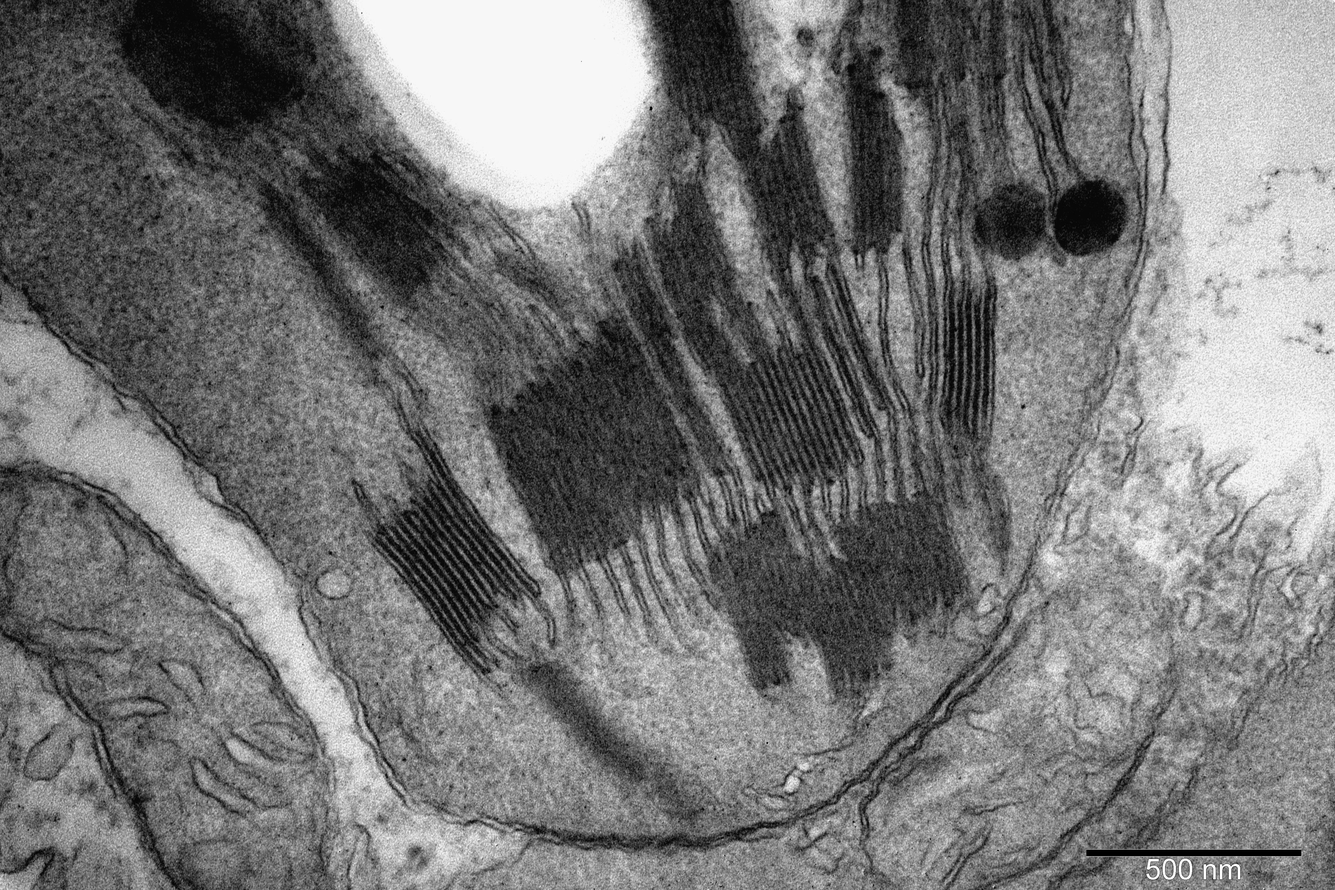granum: (482, 317, 714, 575), (708, 493, 975, 705), (369, 464, 538, 679), (641, 180, 775, 383), (116, 0, 308, 139), (613, 249, 731, 475), (712, 343, 873, 500), (257, 190, 390, 369), (300, 157, 447, 304), (640, 0, 770, 163), (517, 656, 656, 795), (736, 111, 840, 261), (843, 54, 907, 250), (937, 300, 999, 436), (492, 252, 585, 322), (888, 0, 934, 95), (927, 4, 976, 88), (974, 4, 1011, 115), (1006, 1, 1049, 65)
